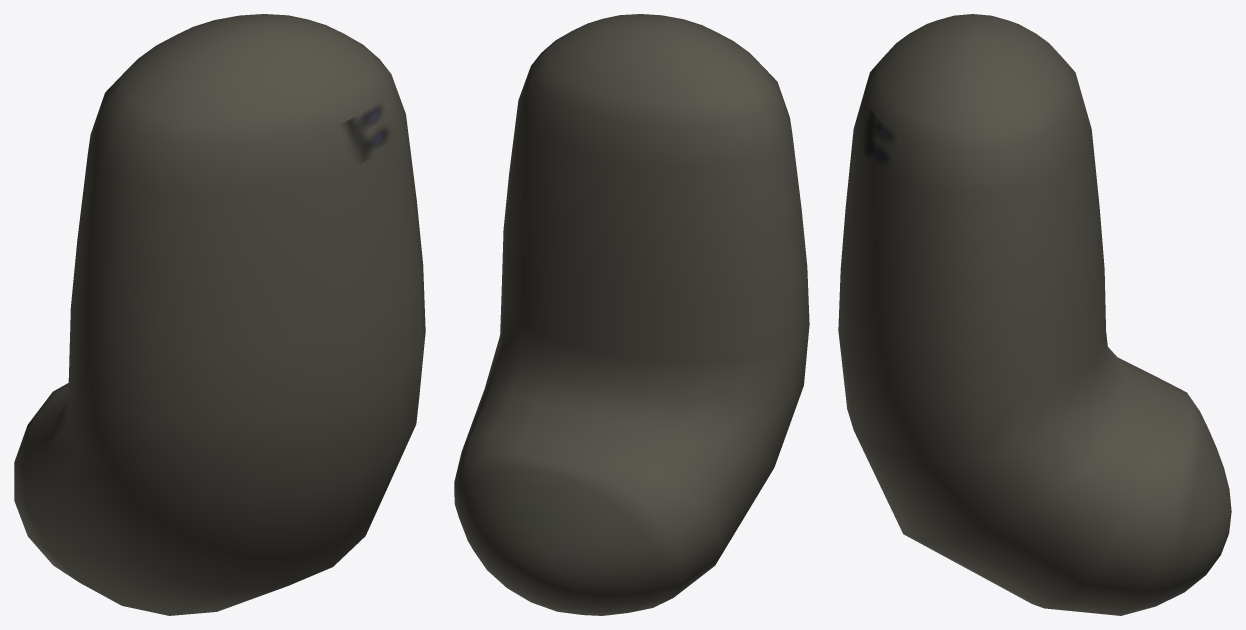
File: CuerpoLimonagrio_obj.obj
The picture shows the model from 3 angles, left to right: view 1: azimuth 30°, elevation 25°; view 2: azimuth 150°, elevation 25°; view 3: azimuth 270°, elevation 25°; orthographic projection. The views are drawn at different scales.
Parts seen in each view (by area): view 1: Cuerpo; view 2: Cuerpo; view 3: Cuerpo.
Part boxes in pixels (x1,y1,x2,y2): Cuerpo: (14,14,425,615); Cuerpo: (454,14,809,615); Cuerpo: (838,14,1231,615).
Size of the model in its own units: 3.3 by 5.95 by 3.73.
